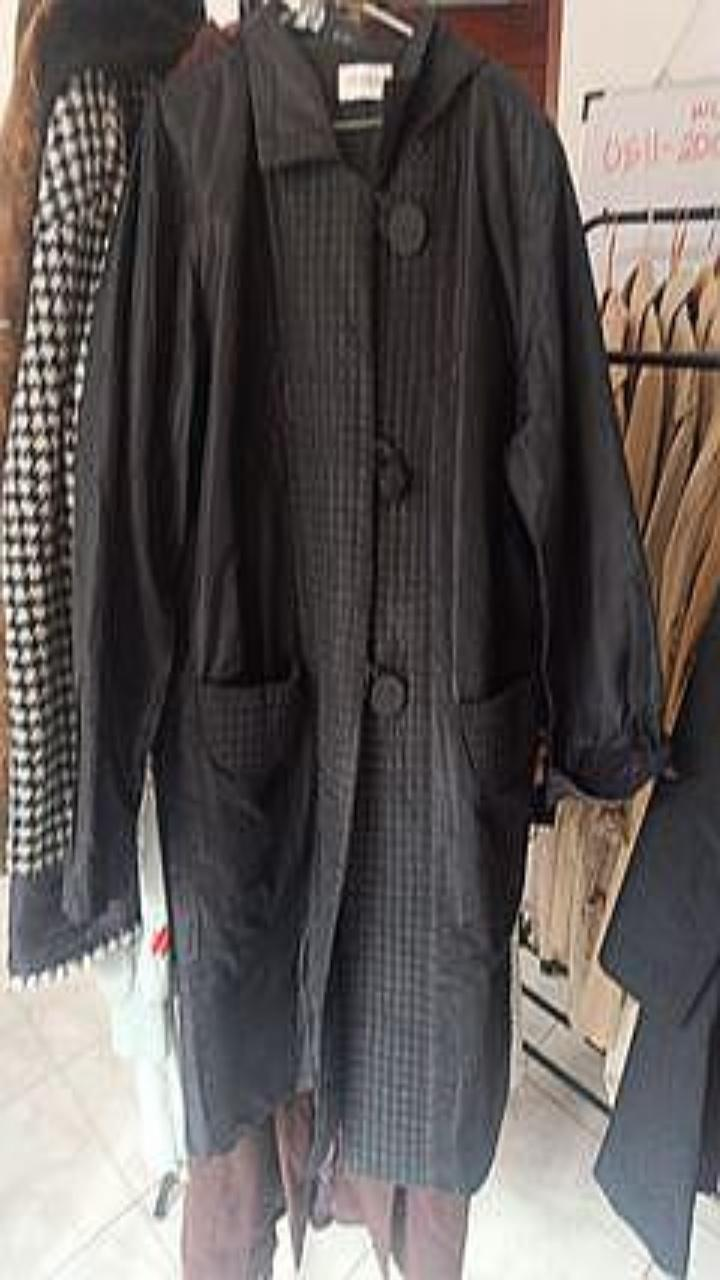Coat: (64, 4, 663, 1190), (596, 593, 719, 1275)
